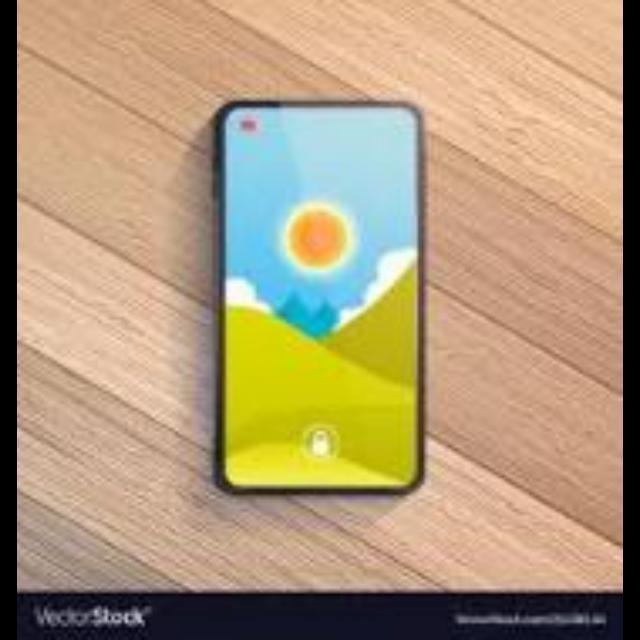phone: (179, 80, 465, 525)
